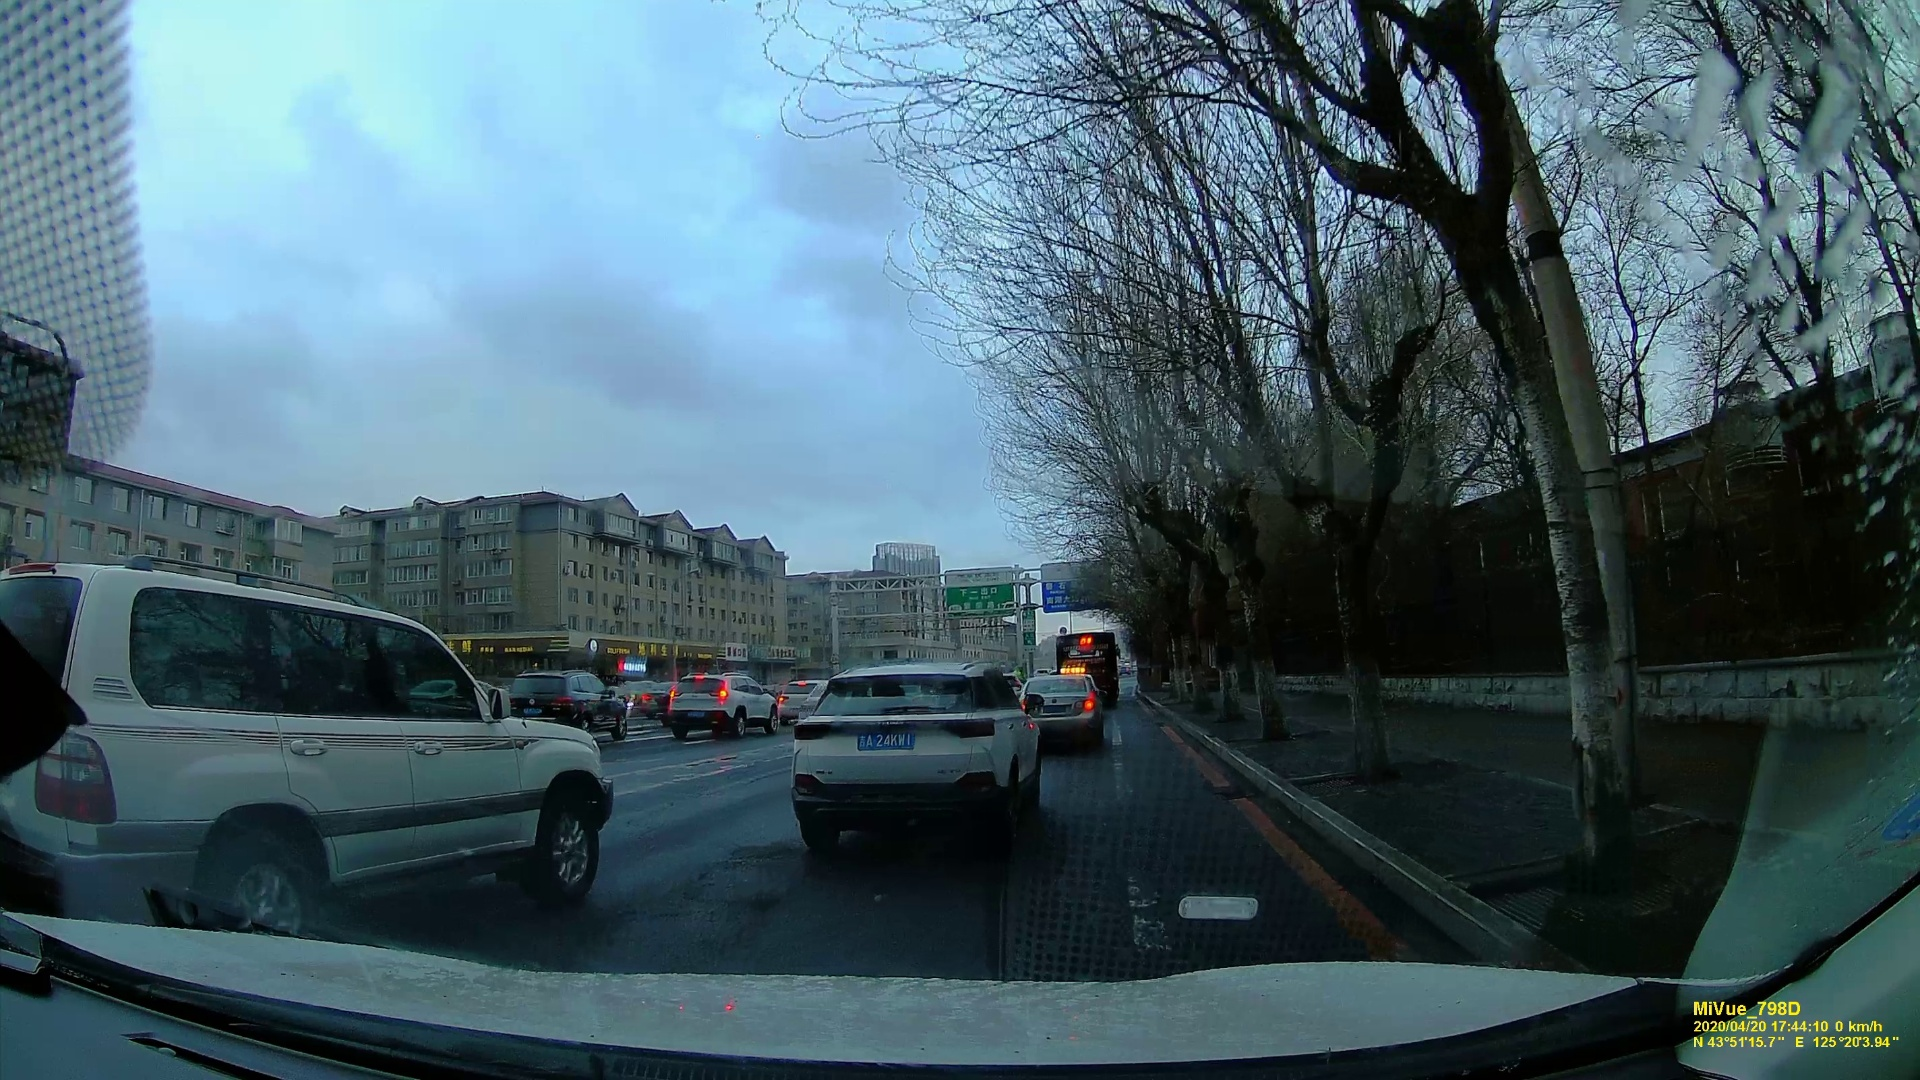bus: (1052, 636, 1121, 700)
traffic_sign: (945, 564, 1021, 615), (1040, 560, 1108, 612)
vehicle: (9, 539, 541, 952), (785, 653, 1048, 847), (498, 669, 630, 736), (657, 673, 779, 741), (1021, 670, 1104, 738)
